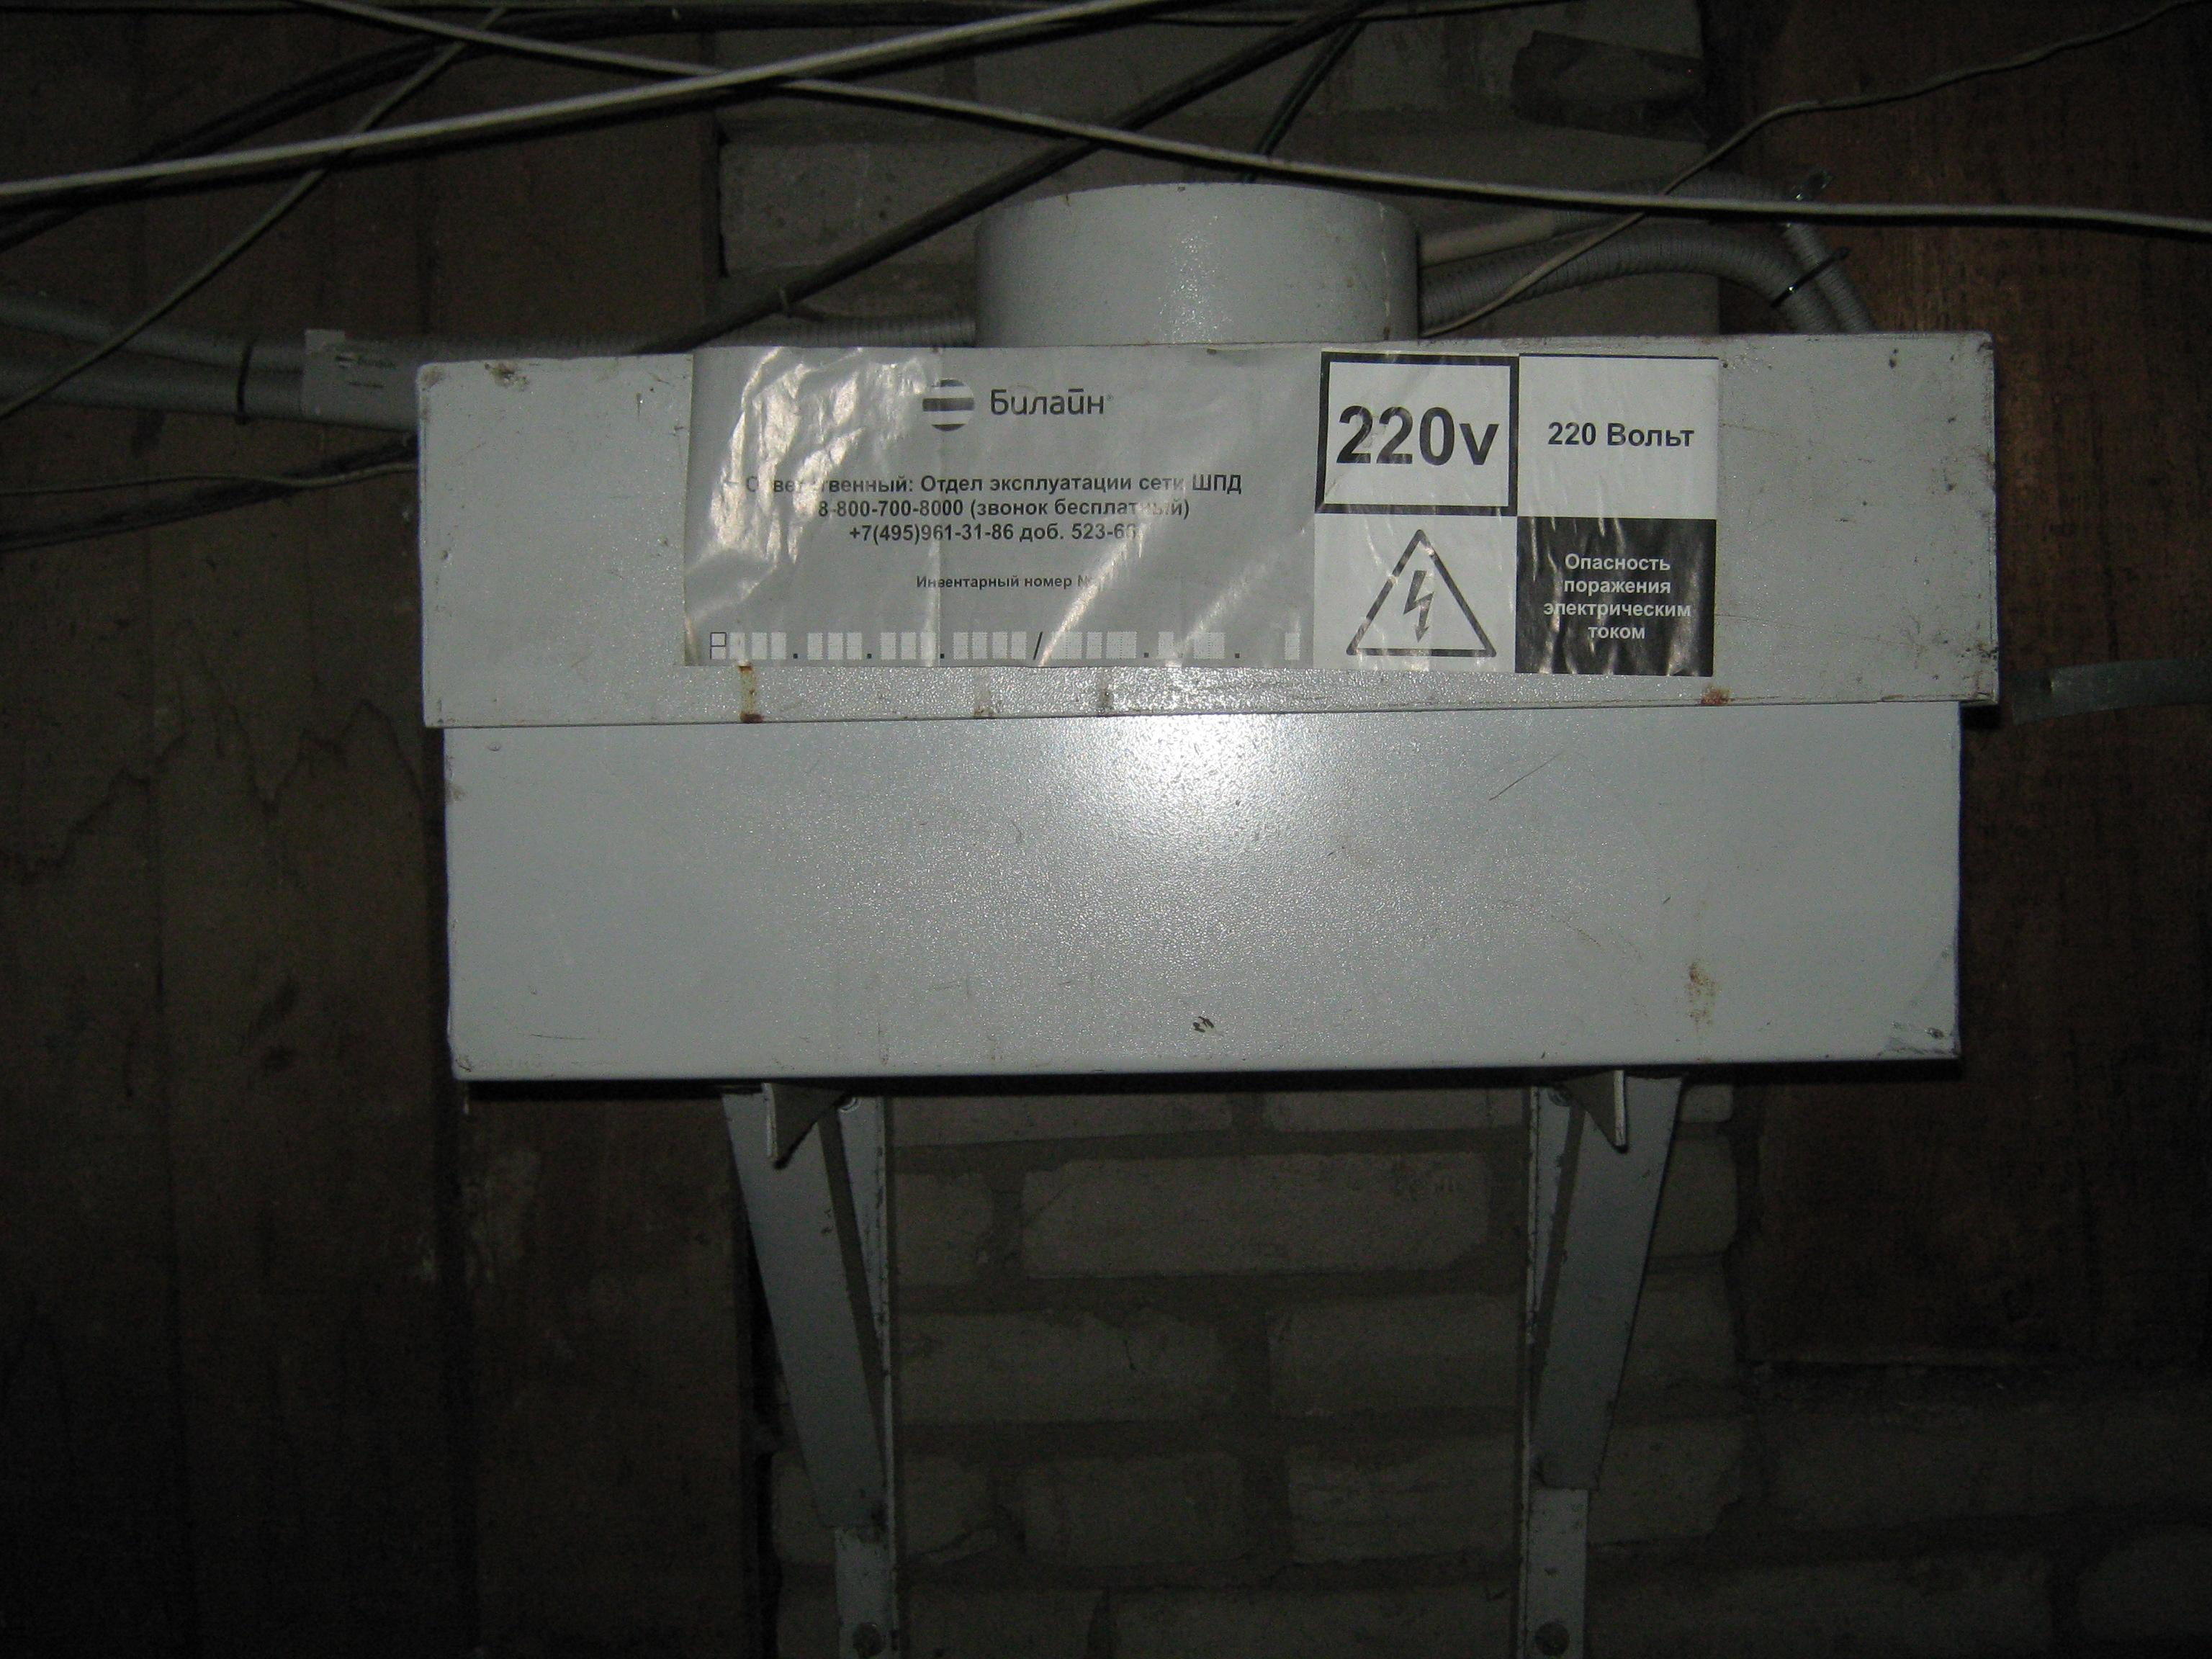shta-ps: (392, 166, 2043, 1107)
